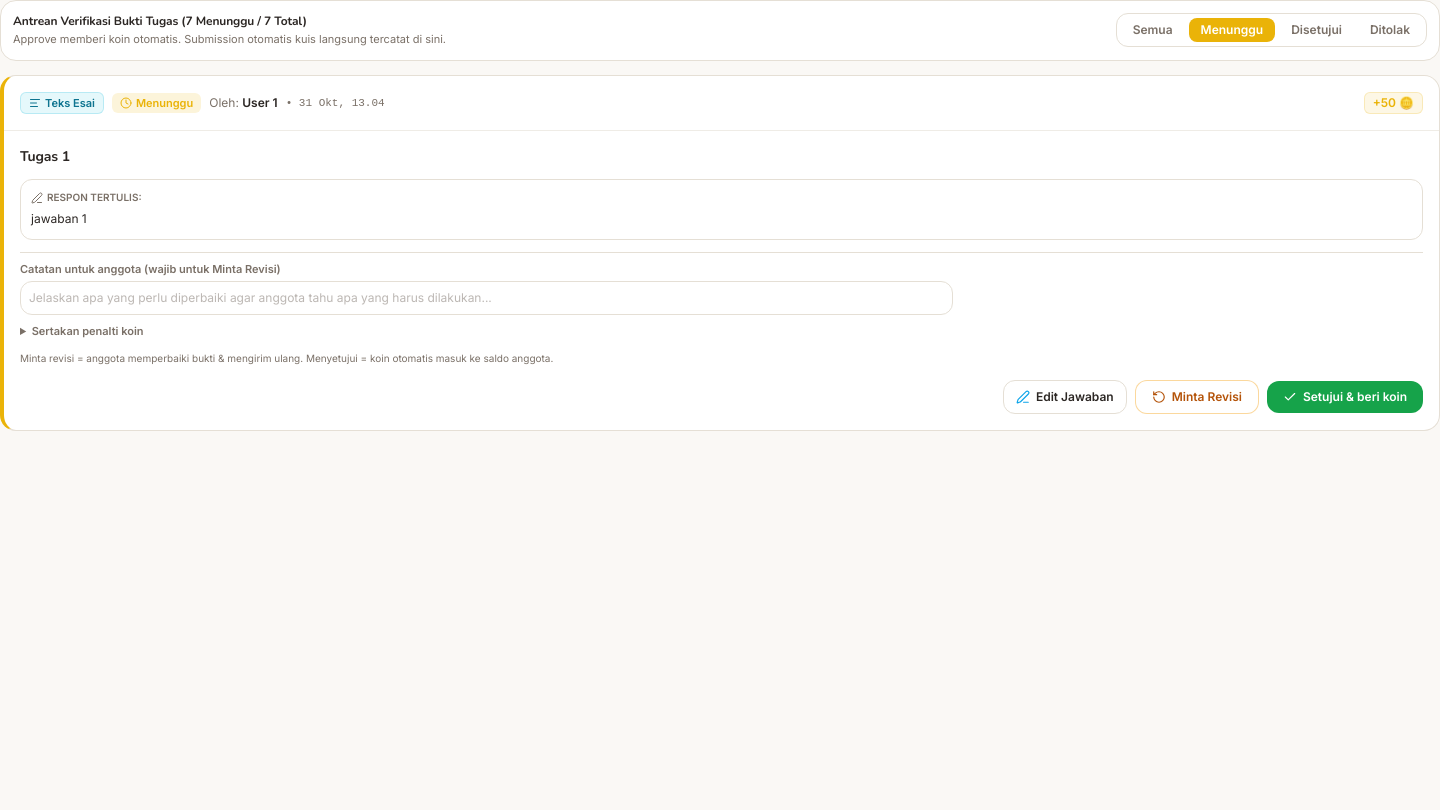
Test case: SubmissionsQueue pagination › shows the exact global Menunggu count when filter is Semua
Check: the heading "Tugas 1" is shown, box 20,147 -> 70,166
Click the button "Semua" at (1153, 30), box 1121,18 -> 1185,42
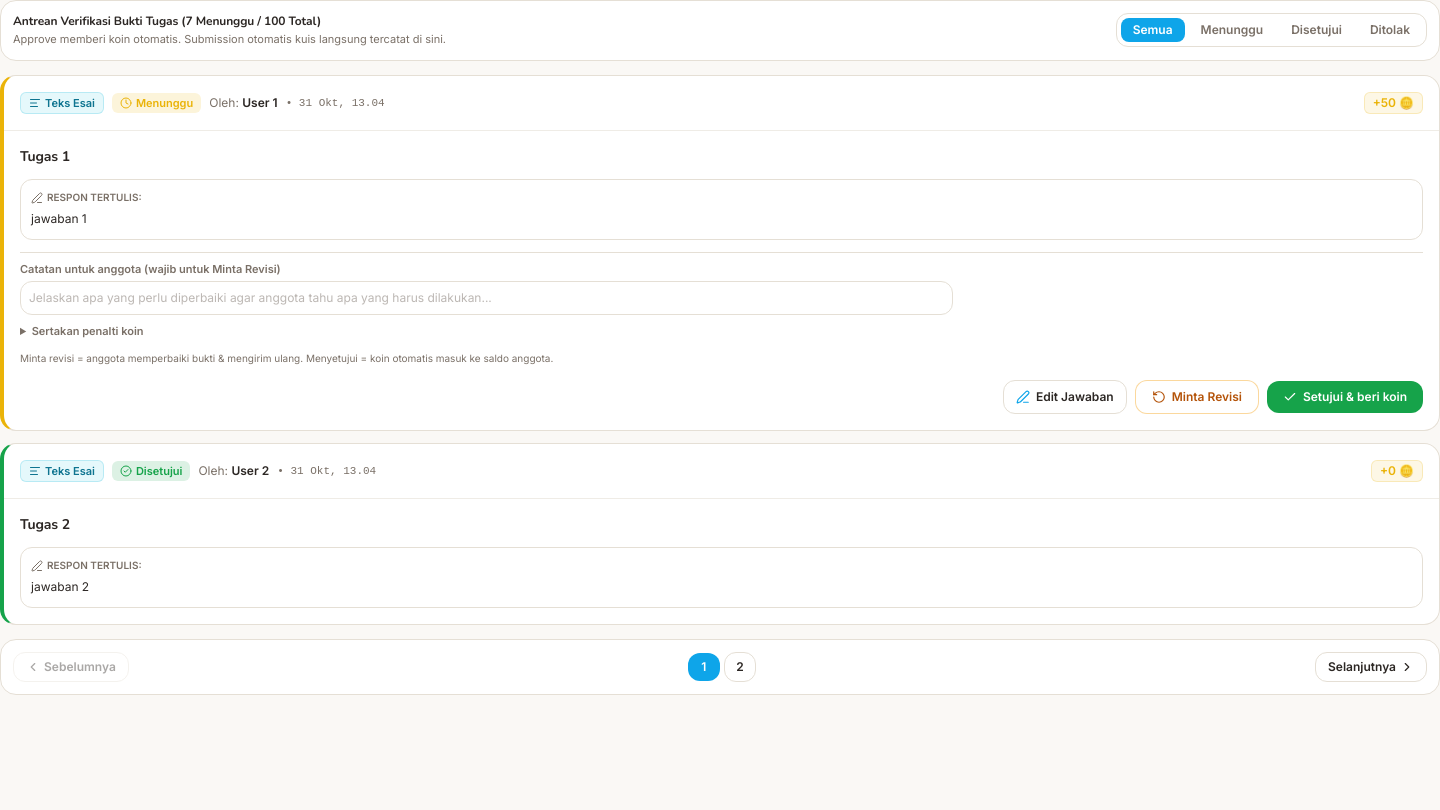
Check: the text "Antrean Verifikasi Bukti Tugas (7 Menunggu / 100 Total)" is shown, box 13,13 -> 321,29
